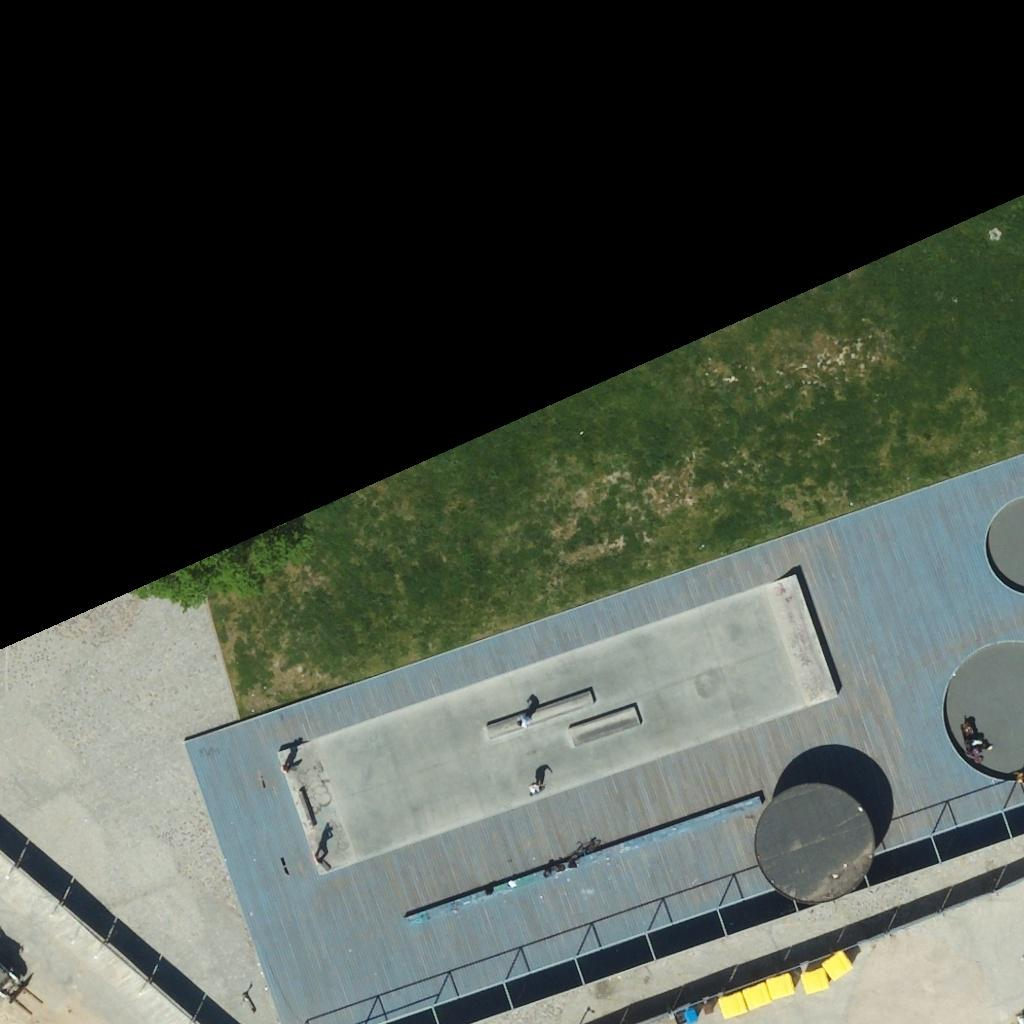wozek_widlowy: (0, 959, 42, 1013)
